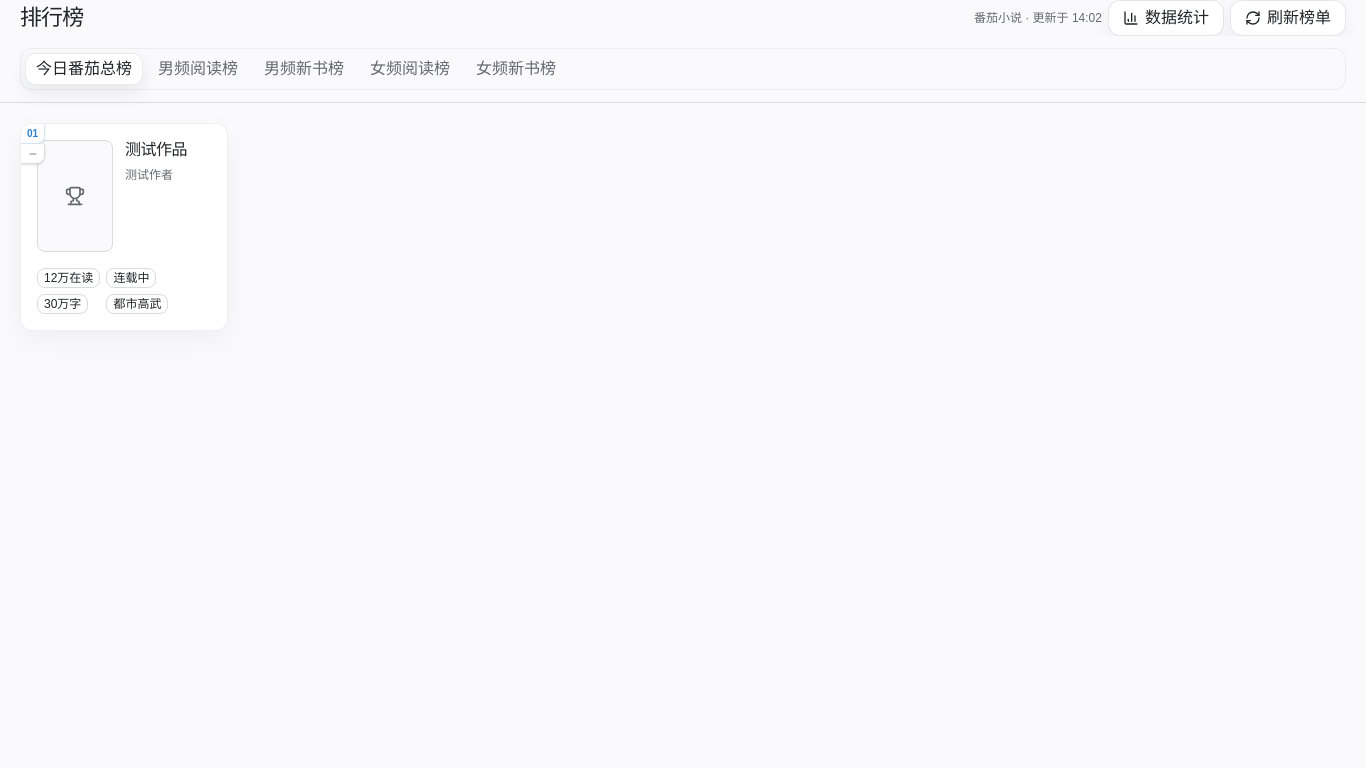
it: LeaderboardPage › 打开详情时优先使用本地缓存中的完整图书信息
The image size is (1366, 768).
Click the button with aria-label "查看 测试作品 详情" at (124, 227), box [21,124,227,330]
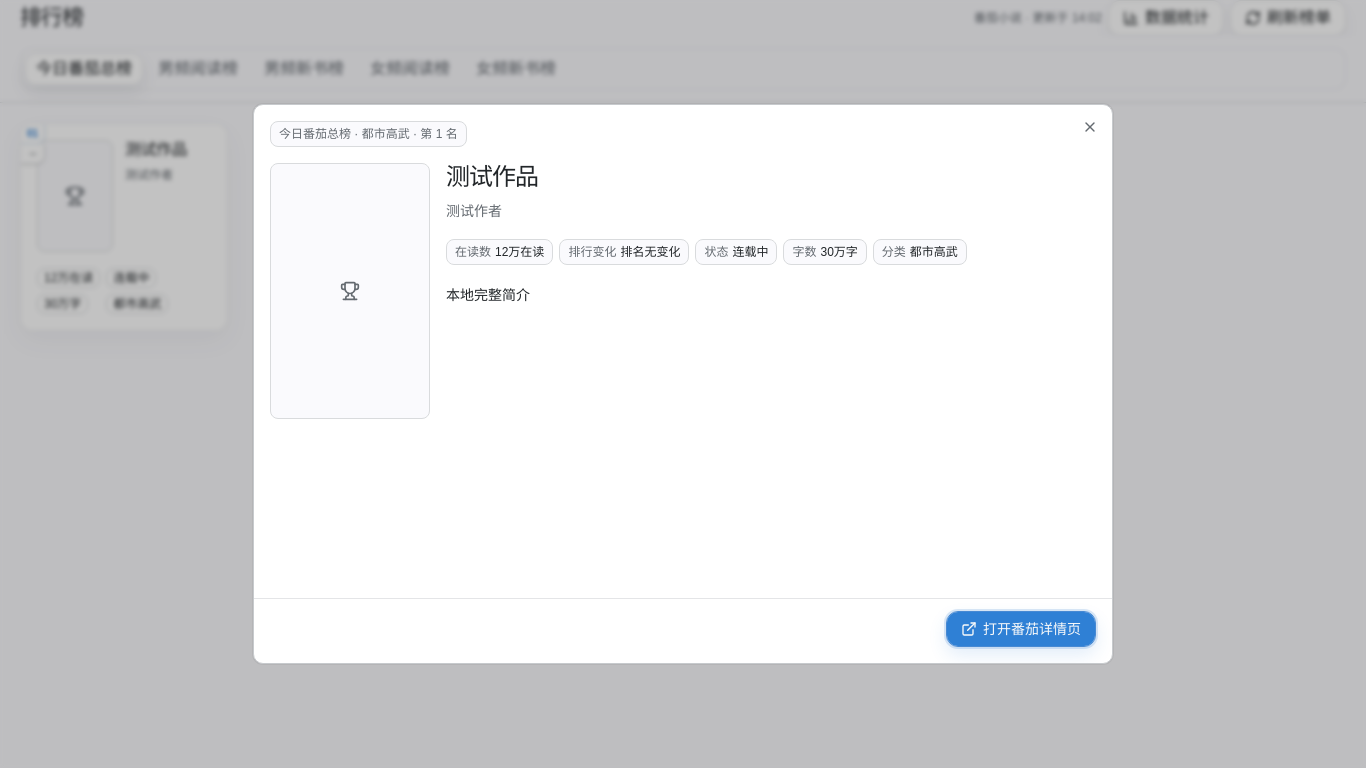
Result: the text "本地完整简介" is shown at [446,287,530,303]
